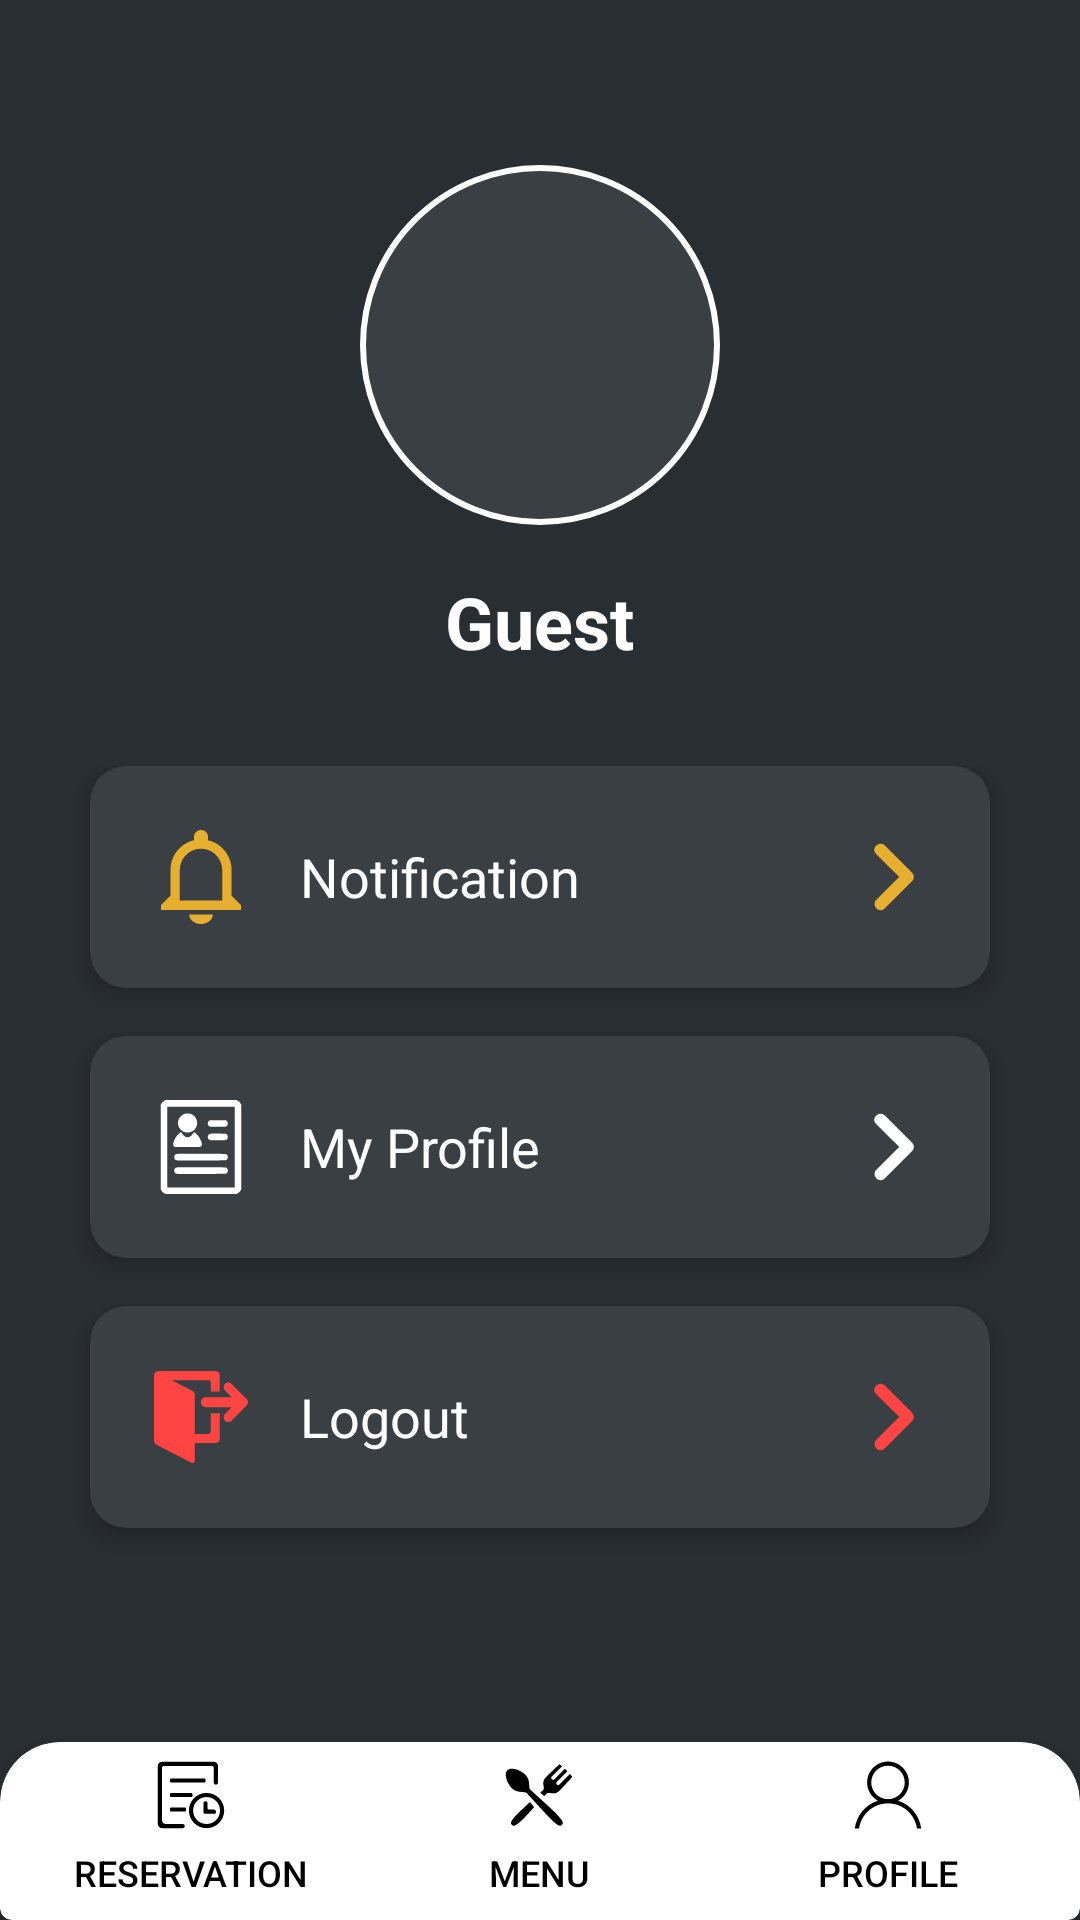

Screen size 1080*1920. Icon name, then its center in pixels as point (x, y):
arrowforward: point (894, 877), point (894, 1147), point (894, 1417)
